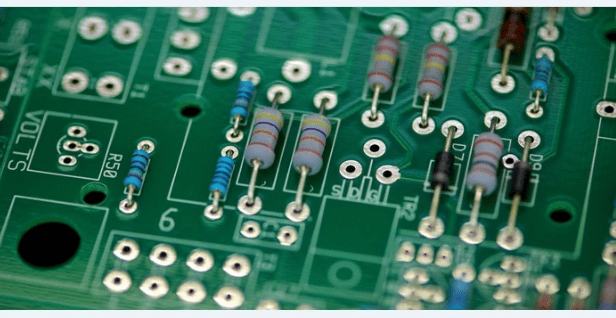resistor: (292, 114, 332, 176), (244, 107, 284, 167), (467, 132, 503, 194), (416, 43, 451, 101), (367, 35, 400, 92), (125, 150, 149, 190), (211, 155, 233, 196), (231, 81, 255, 117), (532, 57, 553, 97)
